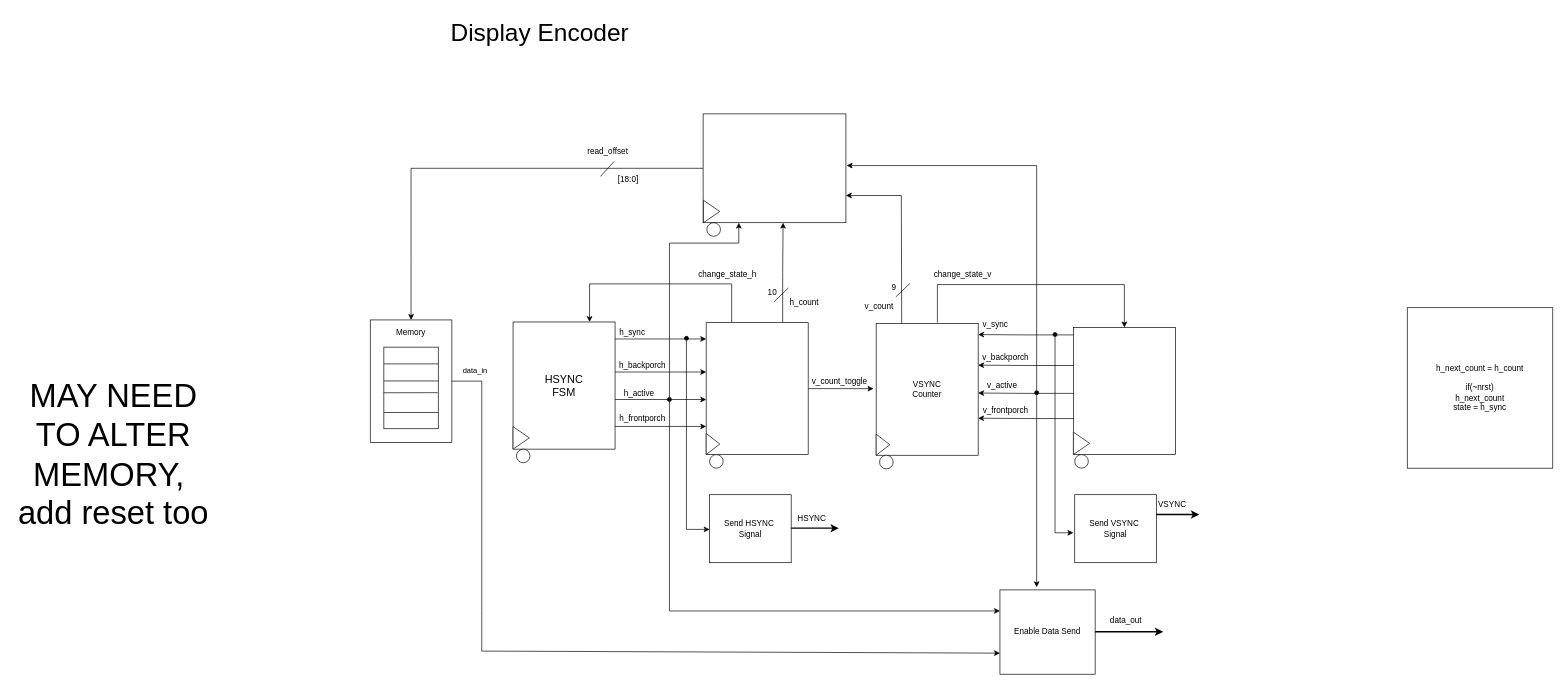
This 1565x686 diagram has some shape labels left out. The shapes that lost their labels are listed below. From the top down, each one's box as (x1, y1, x2, y2) in pixels, then its label:
(702, 113, 846, 223): Offset Adder
(383, 346, 438, 429): 0xA0000000 0xA0000001 ... 0xA004AFFE 0xA004AFFF
(706, 322, 808, 455): HSYNC Counter
(1073, 327, 1175, 455): VSYNC FSM
